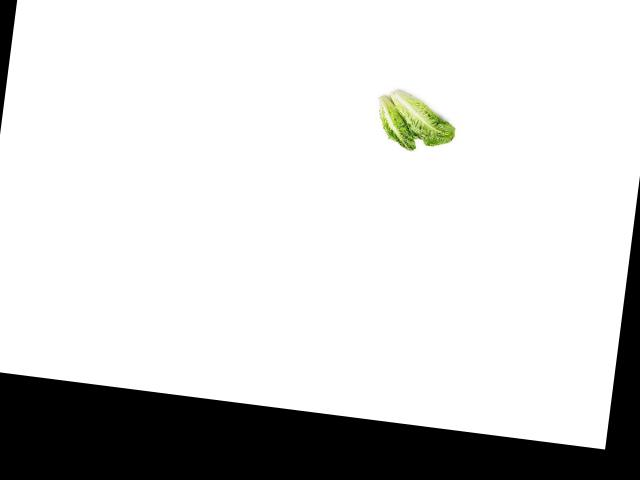lettuce: (389, 86, 460, 151)
